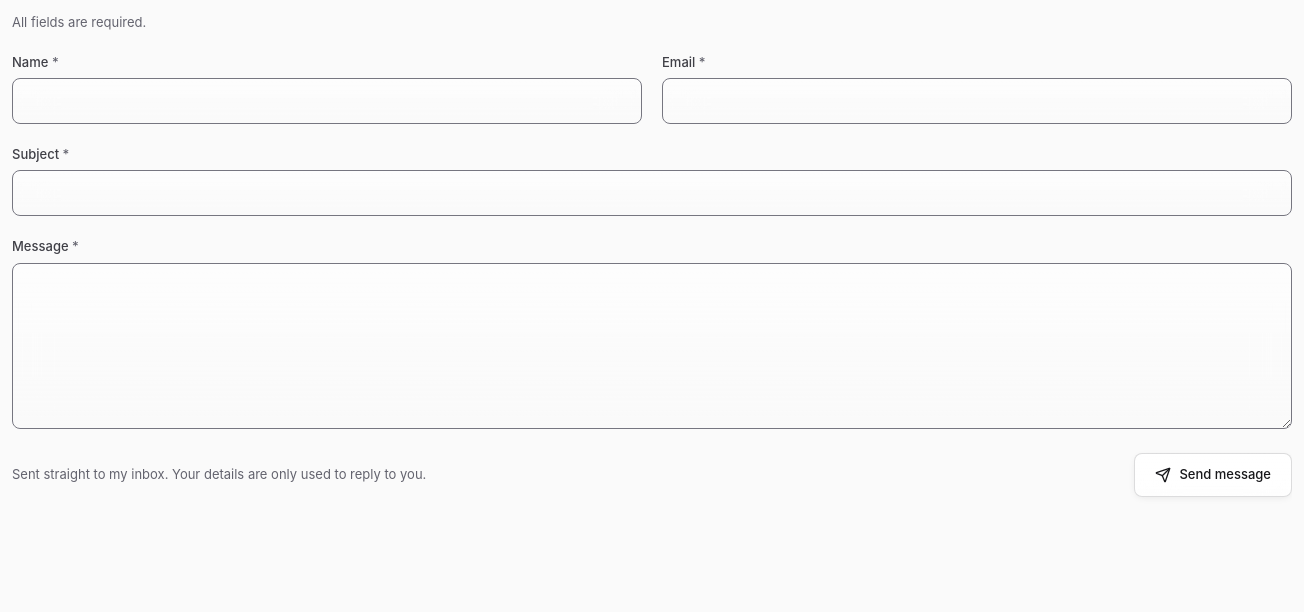
Test case: ContactForm › shows the API's reason when it rejects the message
Type "Ada Lovelace" into the field labelled "Name *" at x=327, y=101, box top-left (12, 78), bottom-right (642, 124)
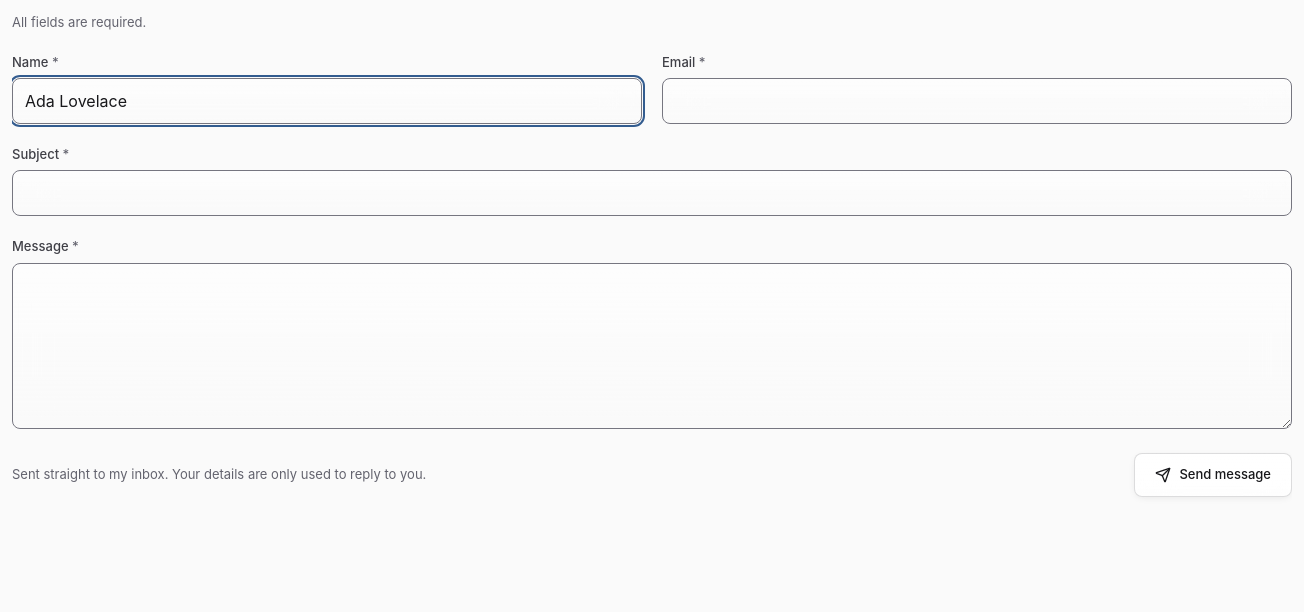
Type "ada@example.com" into the field labelled "Email *" at x=977, y=101, box top-left (662, 78), bottom-right (1292, 124)
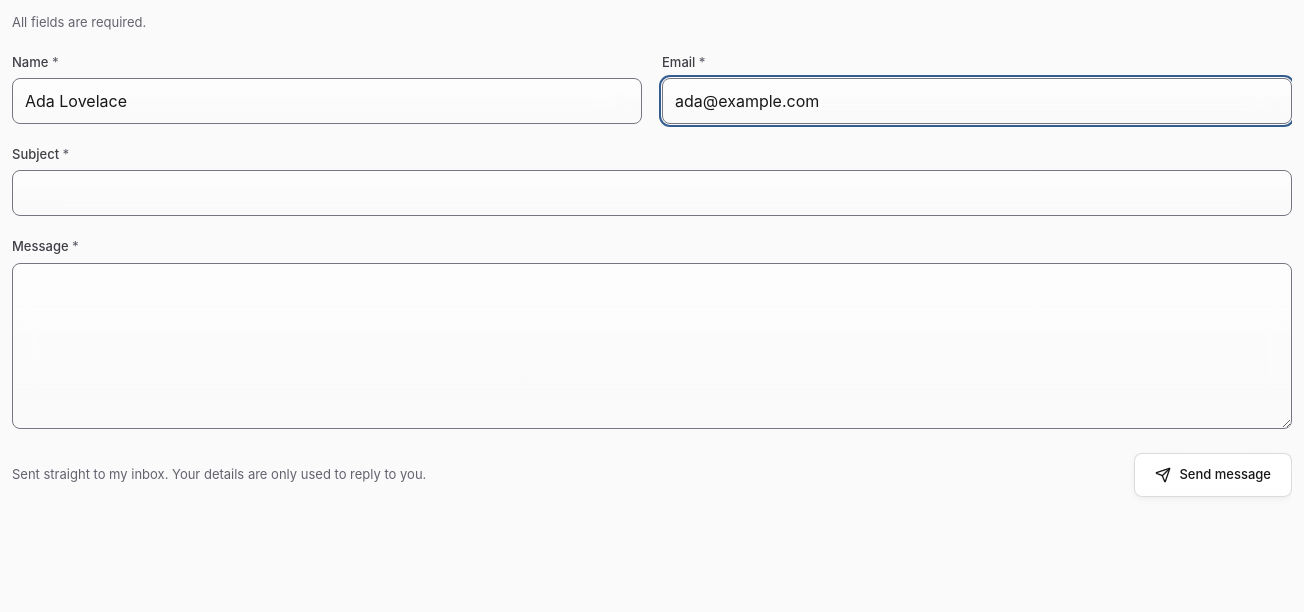
Type "Project" into the field labelled "Subject *" at x=652, y=193, box top-left (12, 170), bottom-right (1292, 216)
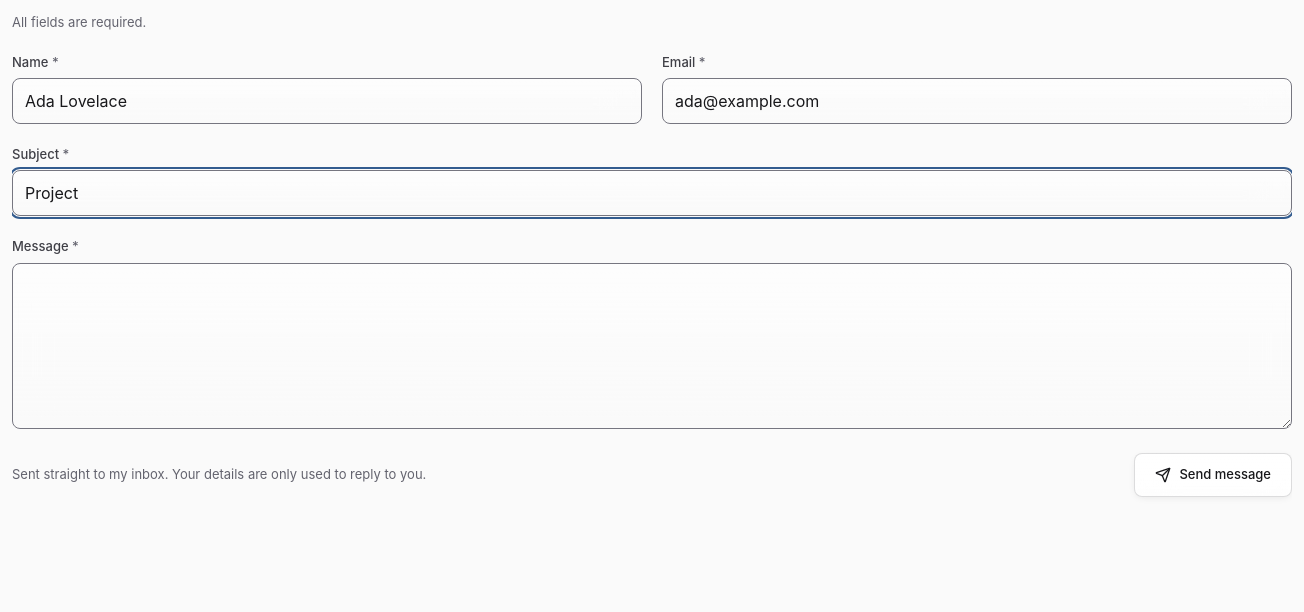
Type "I would like to discuss a project." into the text box labelled "Message *" at x=652, y=346, box top-left (12, 263), bottom-right (1292, 429)
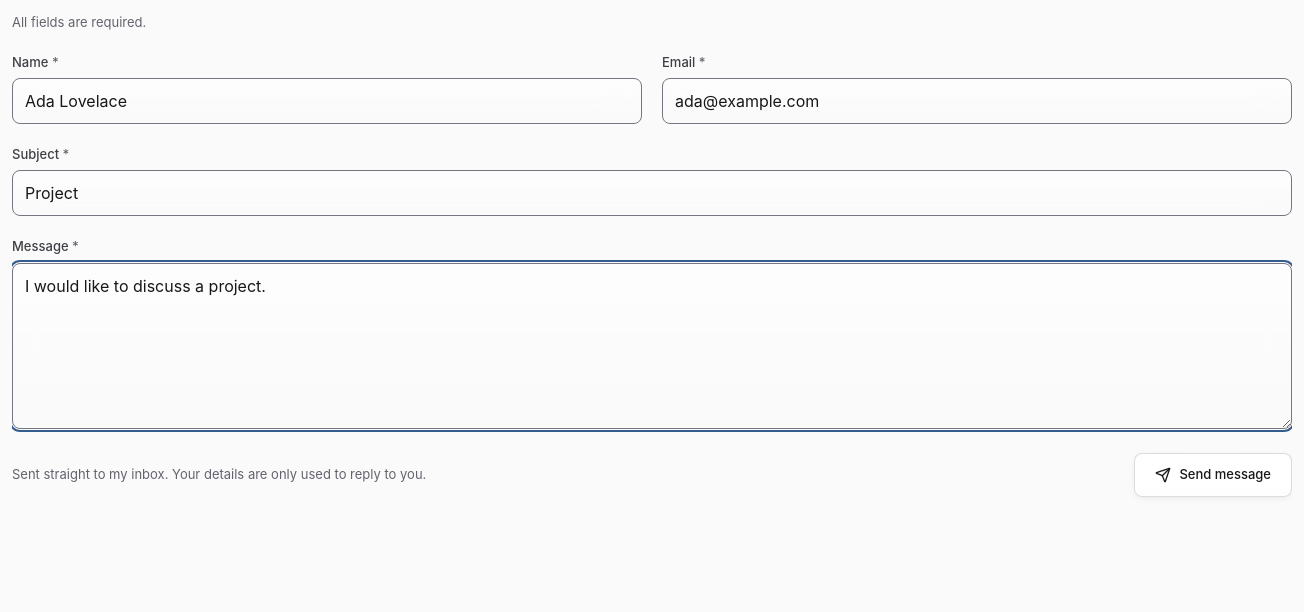
Click the button "Send message" at x=1213, y=475, box top-left (1134, 453), bottom-right (1292, 497)
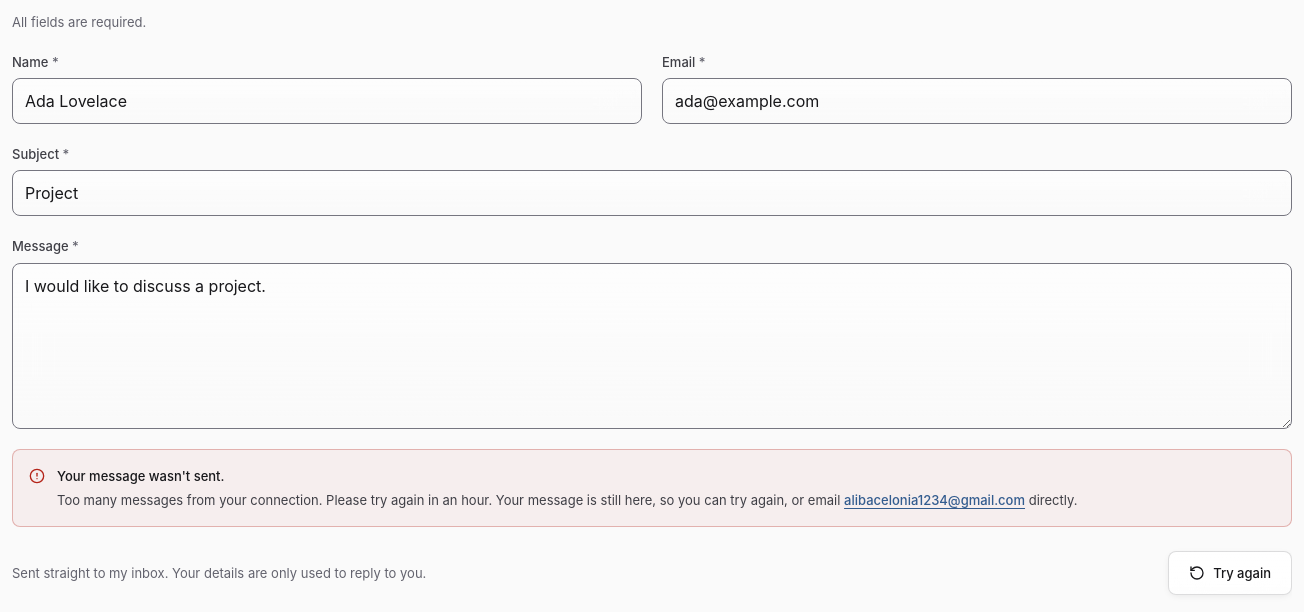
expect the message shows "Too many messages": met, box top-left (57, 492), bottom-right (492, 508)
